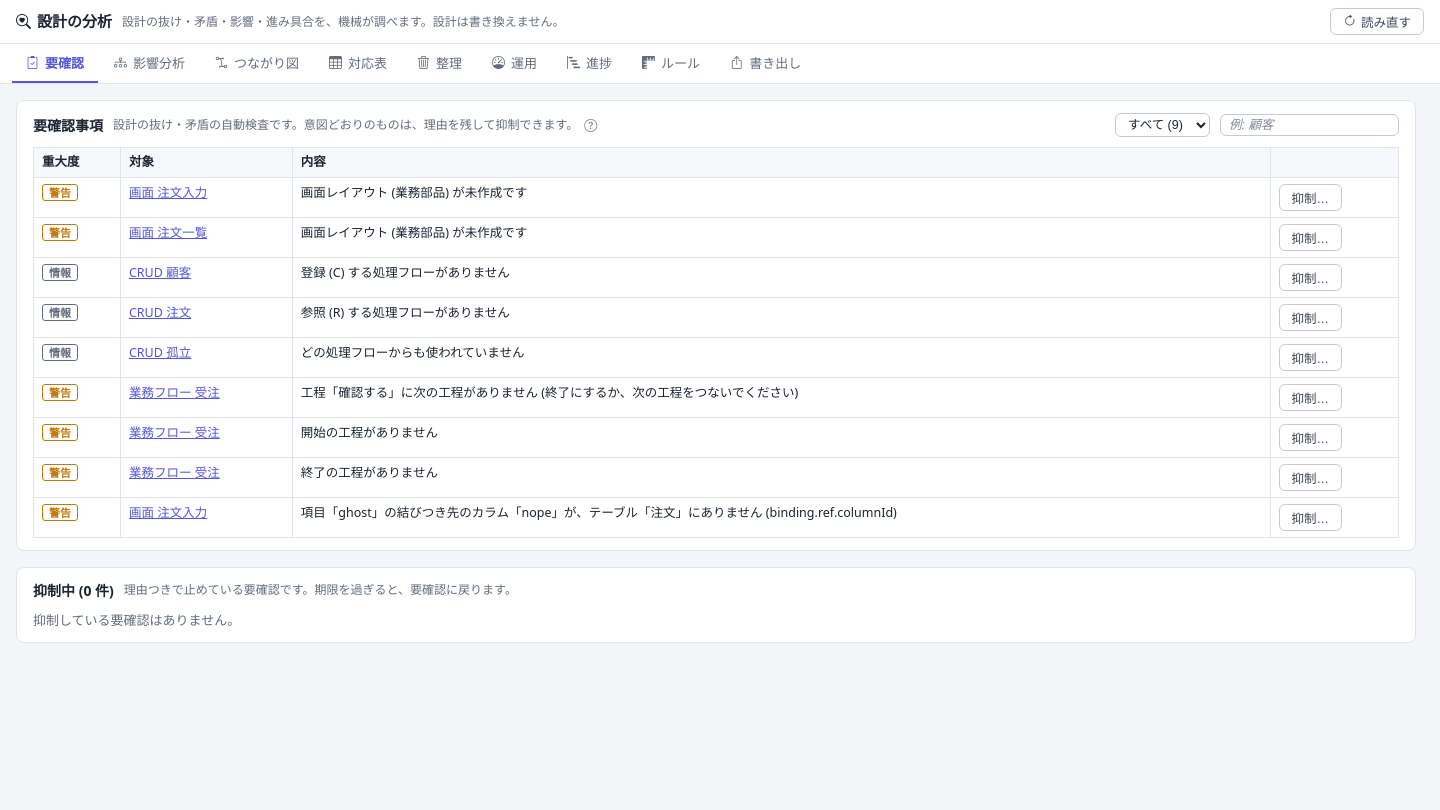
Test: 影響分析 › テーブルを選ぶと、連鎖して影響する設計を段ごとに出す。列で絞れる
Click the tab "影響分析" at {"x": 150, "y": 64}, box [100,44,199,83]
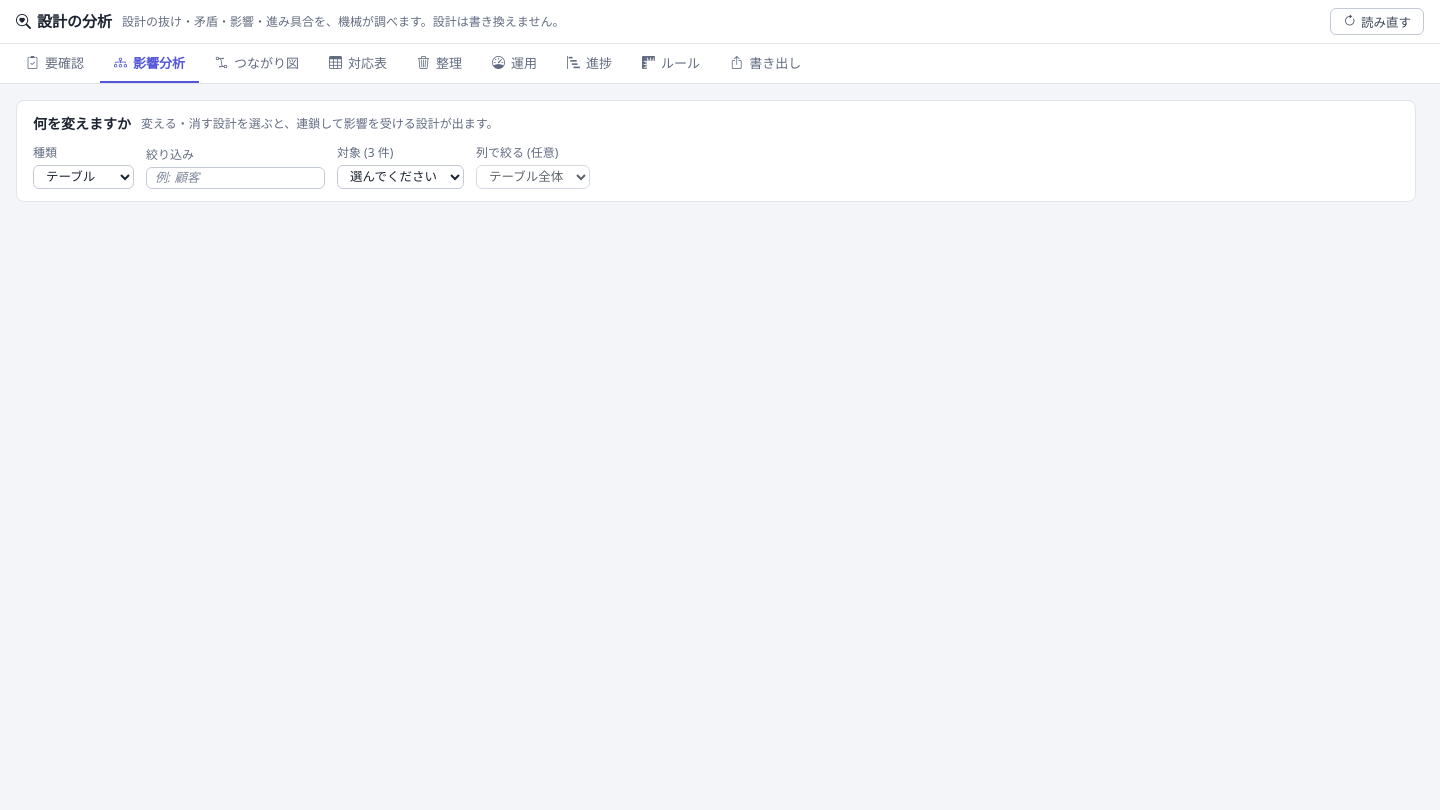
Select "顧客 (customer)" in the dropdown with test id "an-impact-target" at {"x": 400, "y": 177}, box [337,165,464,189]
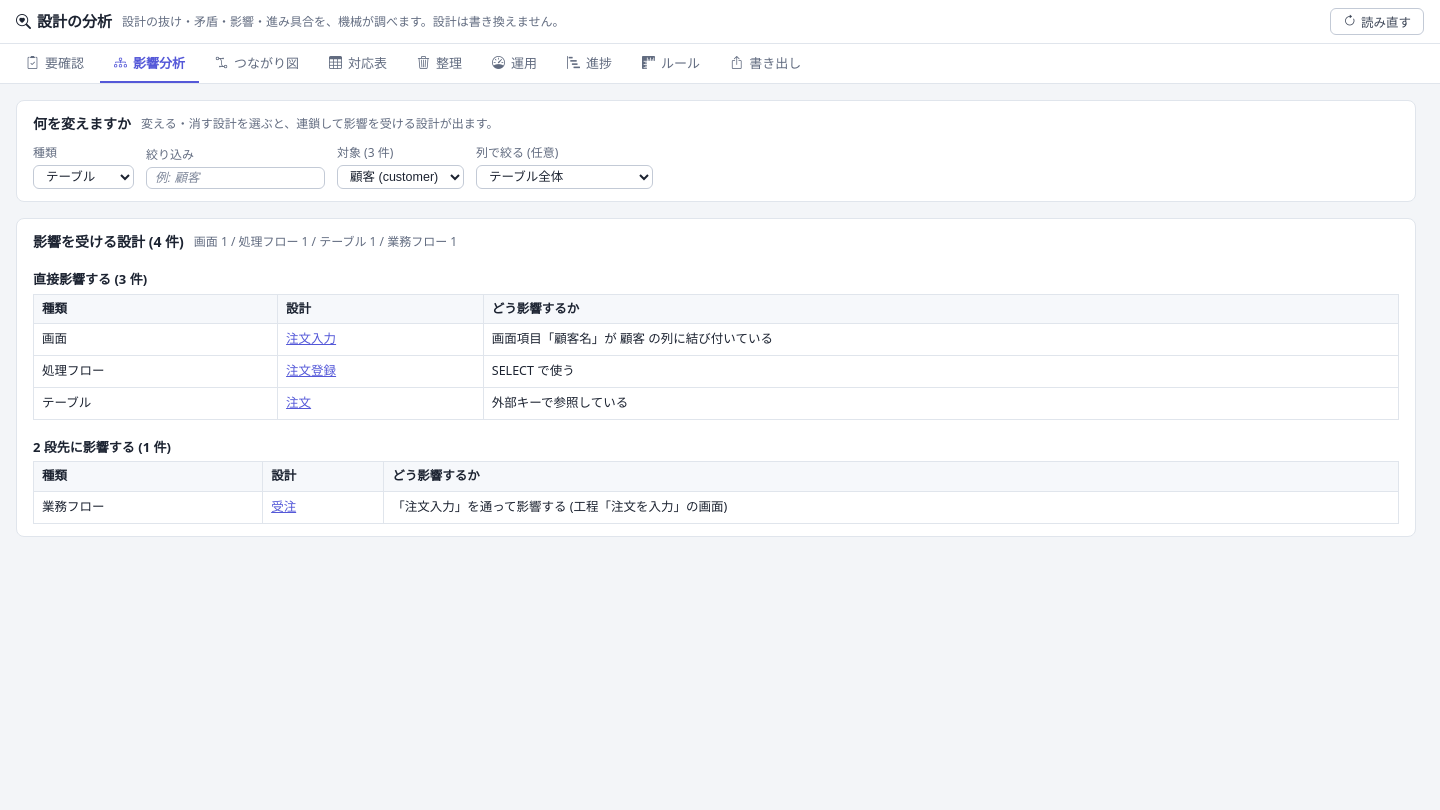
Expected: the element with test id "an-impact-level-1" shows "注文入力", [286,330,336,349]
Expected: the element with test id "an-impact-level-1" shows "注文登録", [286,362,336,381]
Expected: the element with test id "an-impact-level-2" shows "受注", [271,498,296,517]
Select "顧客名 (customer_name)" in the dropdown with test id "an-impact-column" at {"x": 564, "y": 177}, box [476,165,653,189]
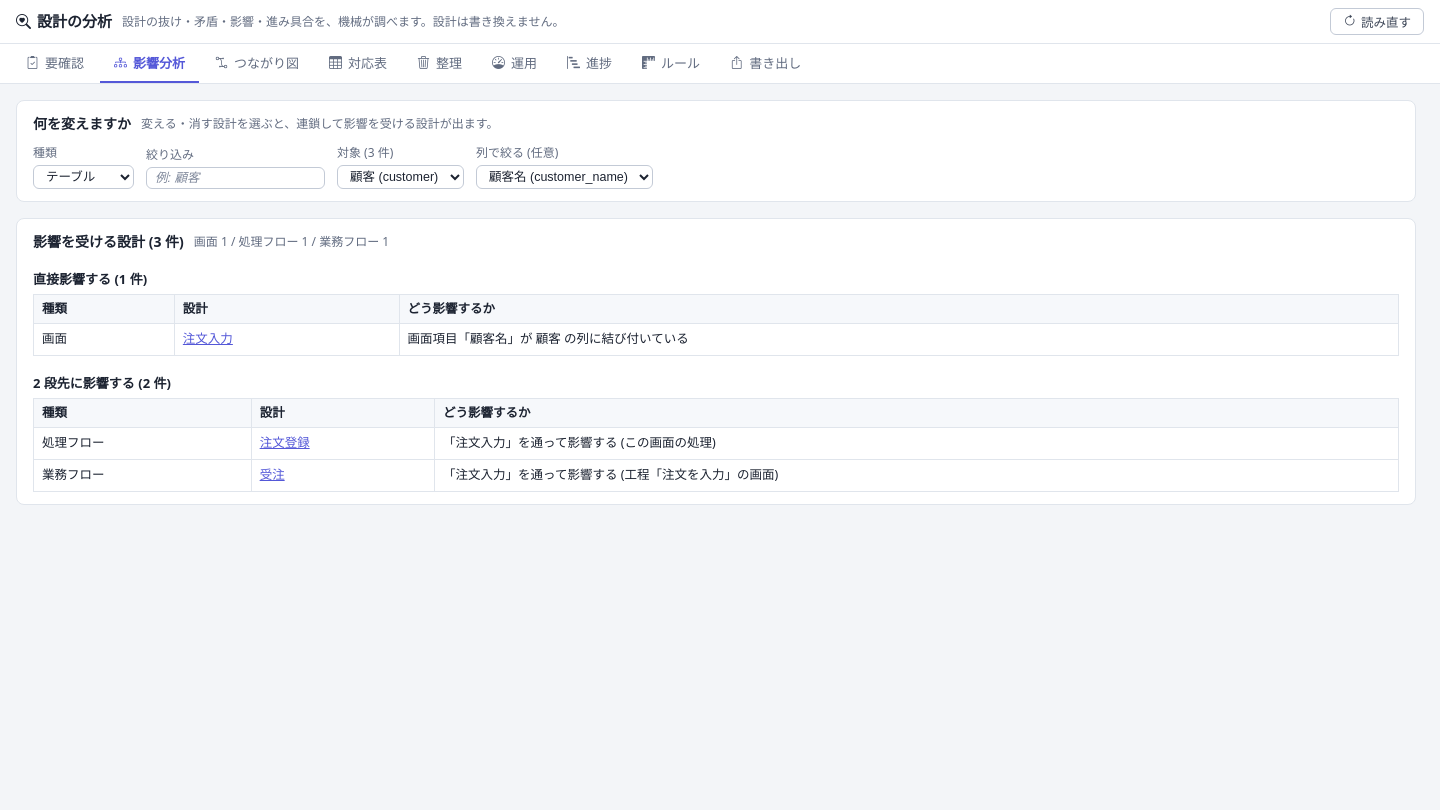
Expected: the element with test id "an-impact-result" shows "注文入力", [183,330,233,349]
Expected: the cell with test id "an-impact-result" no longer shows "外部キーで参照している"
